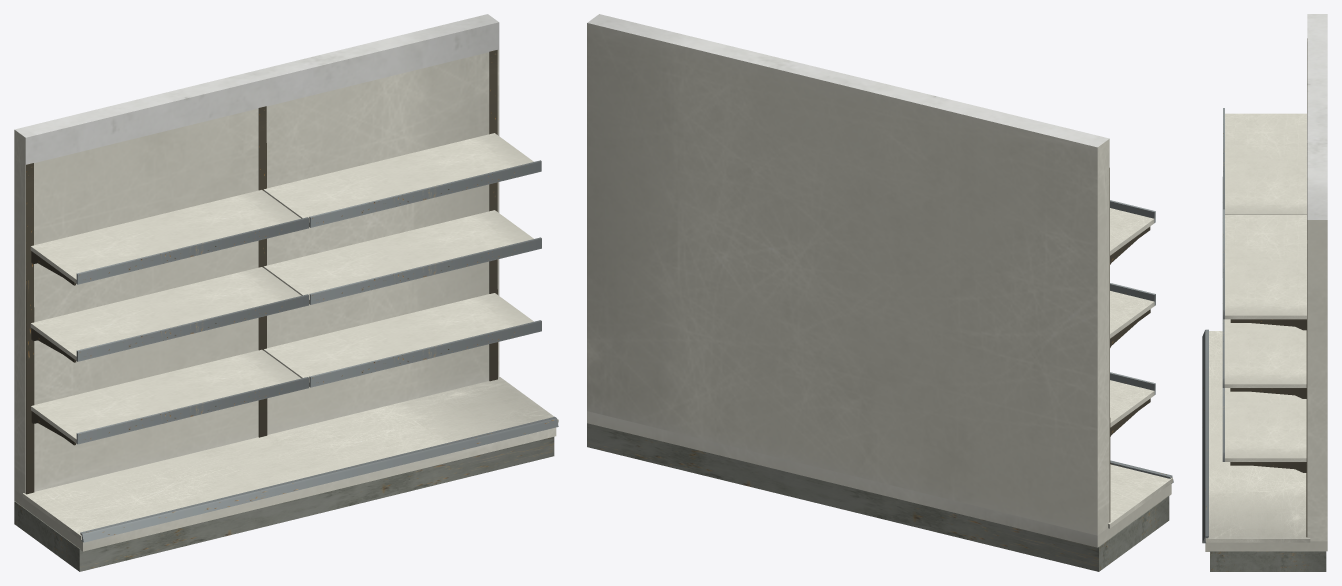
Rendered from convshelf1a.fbx.
3 views of the same model, side by side, from view 1: azimuth 30°, elevation 25°; view 2: azimuth 150°, elevation 25°; view 3: azimuth 270°, elevation 25° (orthographic). The views are drawn at different scales.
Visible parts, largest first — view 1: convshelf1a; view 2: convshelf1a; view 3: convshelf1a.
Part boxes in pixels (<box>): convshelf1a: <box>14,14,558,571</box>; convshelf1a: <box>587,14,1173,571</box>; convshelf1a: <box>1202,14,1327,571</box>.
Size of the model in its own units: 240 by 189 by 61.03.
